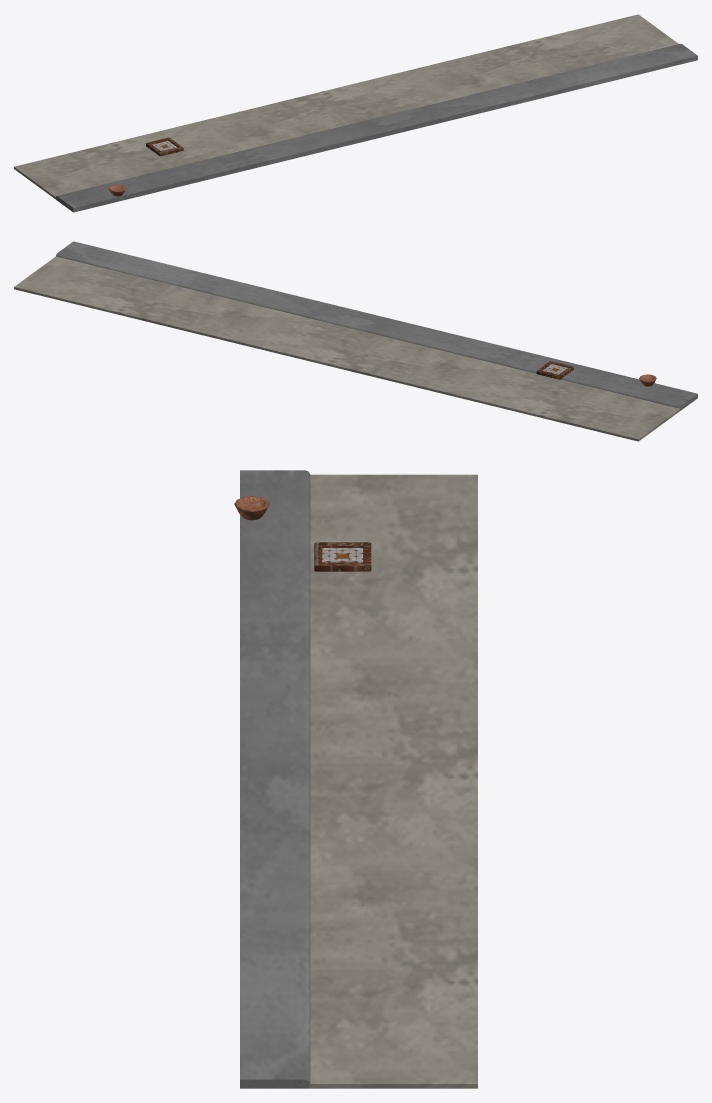
File: Road.fbx
The picture shows the model from 3 angles, top to bottom: view 1: azimuth 30°, elevation 25°; view 2: azimuth 150°, elevation 25°; view 3: azimuth 270°, elevation 25°; orthographic projection. The views are drawn at different scales.
Parts seen in each view (by area): view 1: Cube; view 2: Cube; view 3: Cube.
Boxes of the visible parts, <box> form: Cube: <box>14,14,697,212</box>; Cube: <box>14,241,697,441</box>; Cube: <box>234,470,477,1088</box>.
Bounding box in the file's own units: 9047 × 276 × 1528.
Materials: 1 (1 with a texture image).
